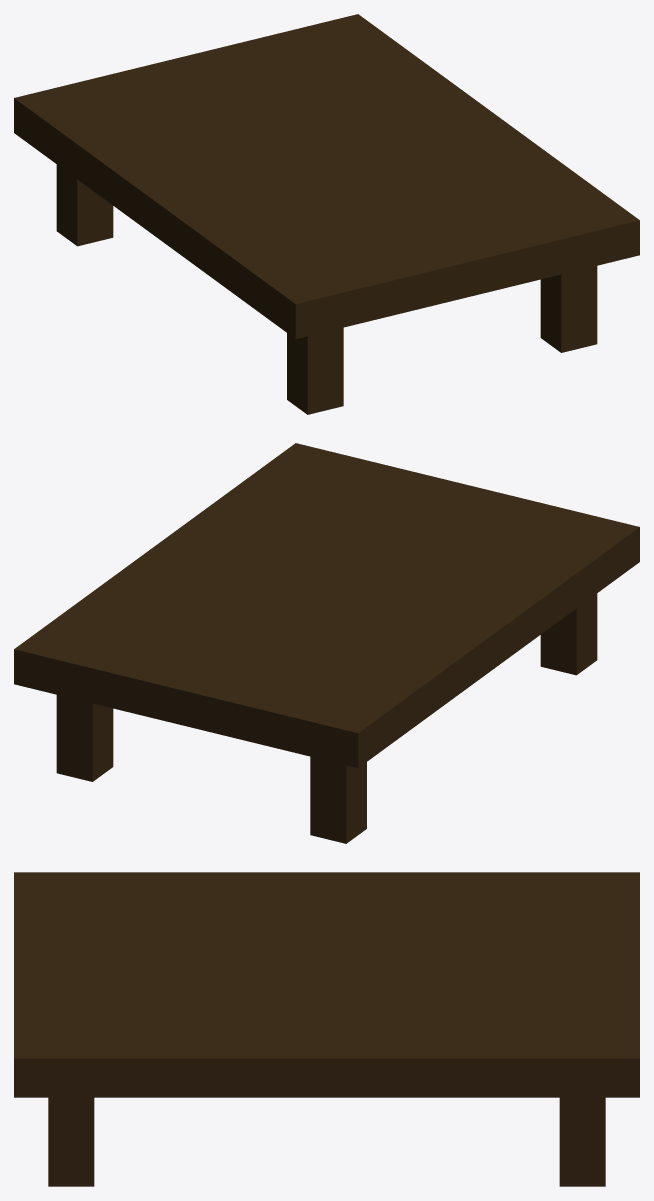
File: Table.fbx
The picture shows the model from 3 angles, top to bottom: view 1: azimuth 30°, elevation 25°; view 2: azimuth 150°, elevation 25°; view 3: azimuth 270°, elevation 25°; orthographic projection. The views are drawn at different scales.
Parts seen in each view (by area): view 1: Cube.001; view 2: Cube.001; view 3: Cube.001.
Part boxes in pixels (x1,y1,x2,y2): Cube.001: (14, 14, 639, 414); Cube.001: (14, 443, 639, 843); Cube.001: (14, 872, 639, 1186).
Size of the model in its own units: 270 by 96.34 by 383.
